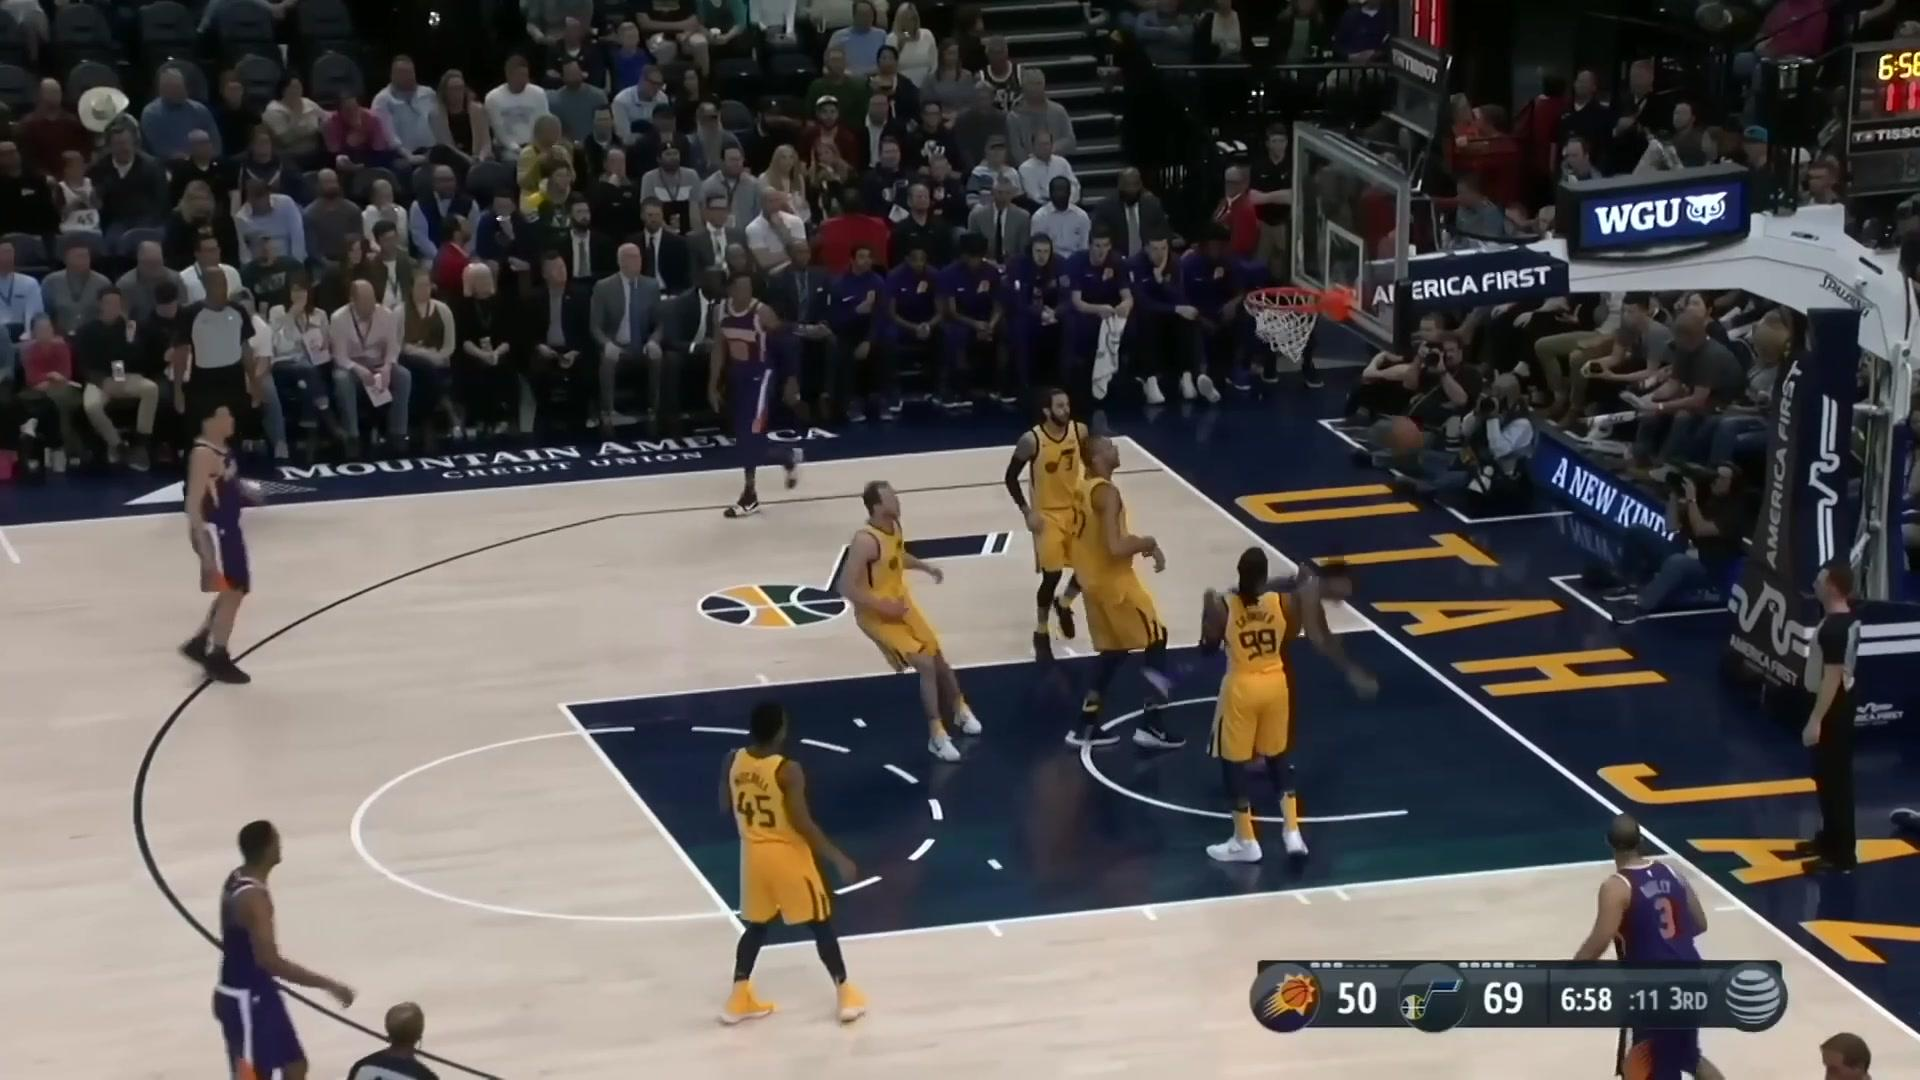no_foul: (980, 368, 1244, 775)
